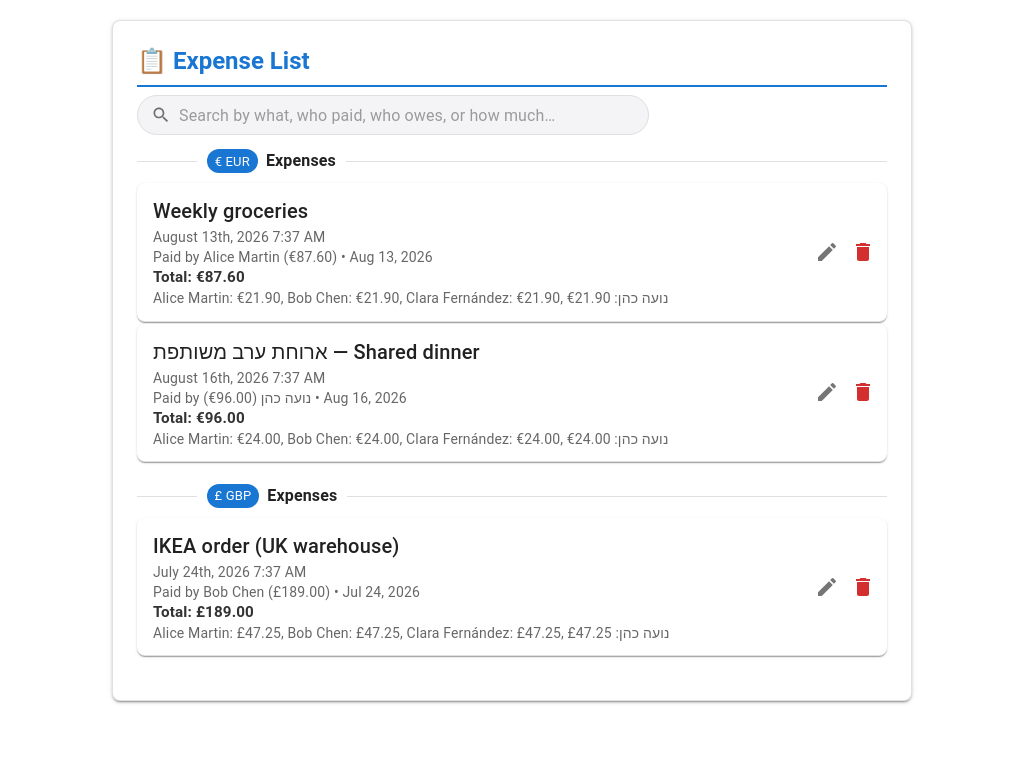
Scenario: ExpenseList search › filters by amount
Click the field named "Search expenses".
click(391, 115)  # box [179,95,602,135]
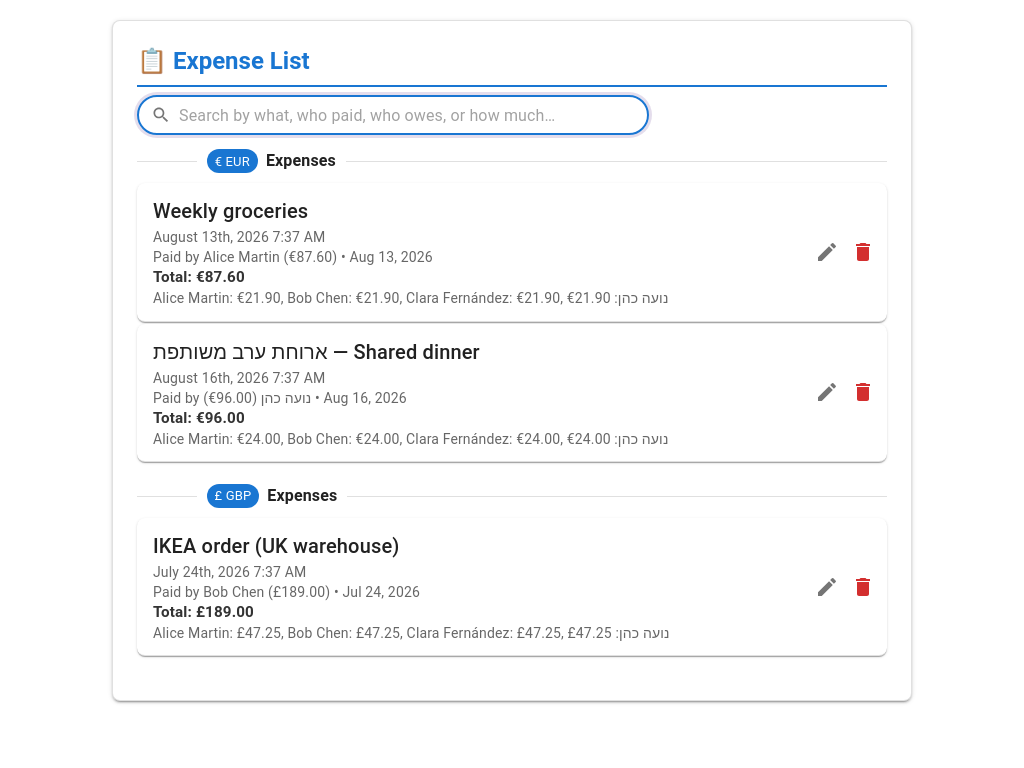
Type keys "87.60"
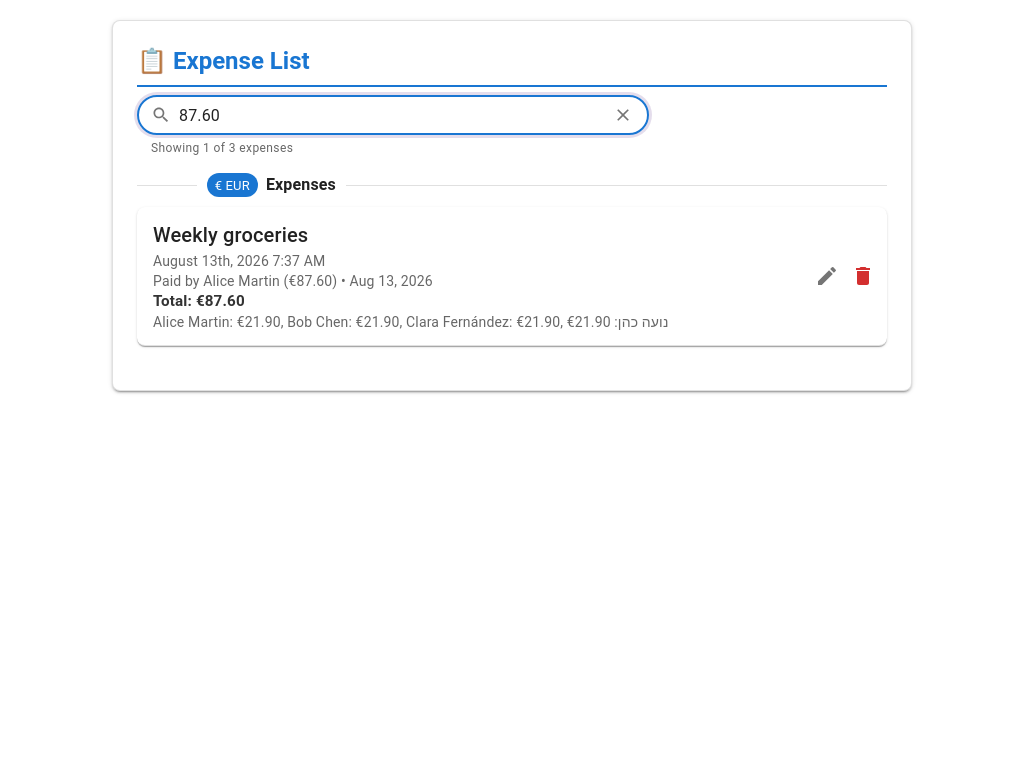
Expected: the heading "Weekly groceries" is shown, [153,223,308,247]
Expected: the heading "IKEA order (UK warehouse)" is gone
